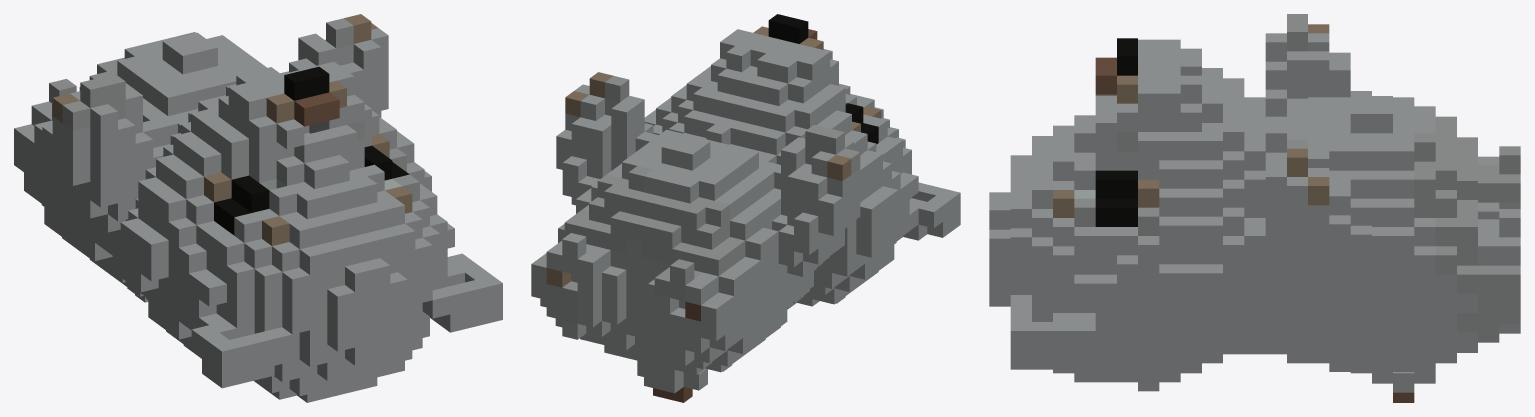
Rendered from polar_bear_ours.glb.
3 renders of one model, left to right at view 1: azimuth 30°, elevation 25°; view 2: azimuth 150°, elevation 25°; view 3: azimuth 270°, elevation 25°, orthographic. The views are drawn at different scales.
Parts seen in each view (by area): view 1: polar_bear_40; view 2: polar_bear_40; view 3: polar_bear_40.
Boxes of the visible parts, x1,y1,x2,y2 form: polar_bear_40: [14, 14, 502, 402]; polar_bear_40: [531, 14, 960, 402]; polar_bear_40: [989, 14, 1520, 402].
Bounding box in the file's own units: 18 × 18 × 25.
